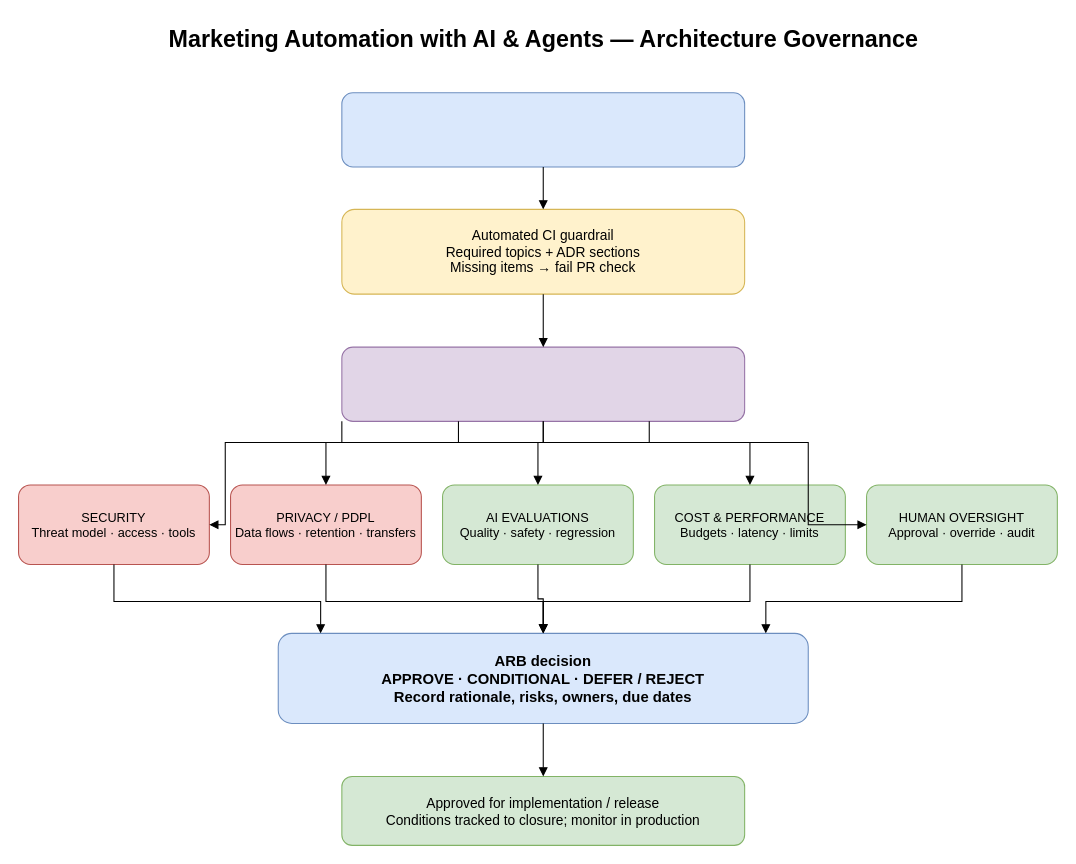
The diagram is 1076 pixels wide and 864 high, and some of its shapes have lost their labels. Each missing label, with the centre of its shape:
Architecture proposal / change Data flows · models · agents · tools: the point at 543,129
Architecture Review Board (ARB) Review evidence, risks, exceptions: the point at 543,383
